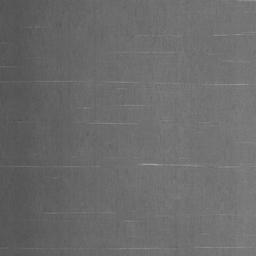Waist folding: (0, 0, 256, 126), (0, 212, 256, 254), (139, 161, 237, 170), (0, 164, 100, 169), (44, 210, 114, 215), (25, 24, 80, 30), (241, 140, 256, 144)
